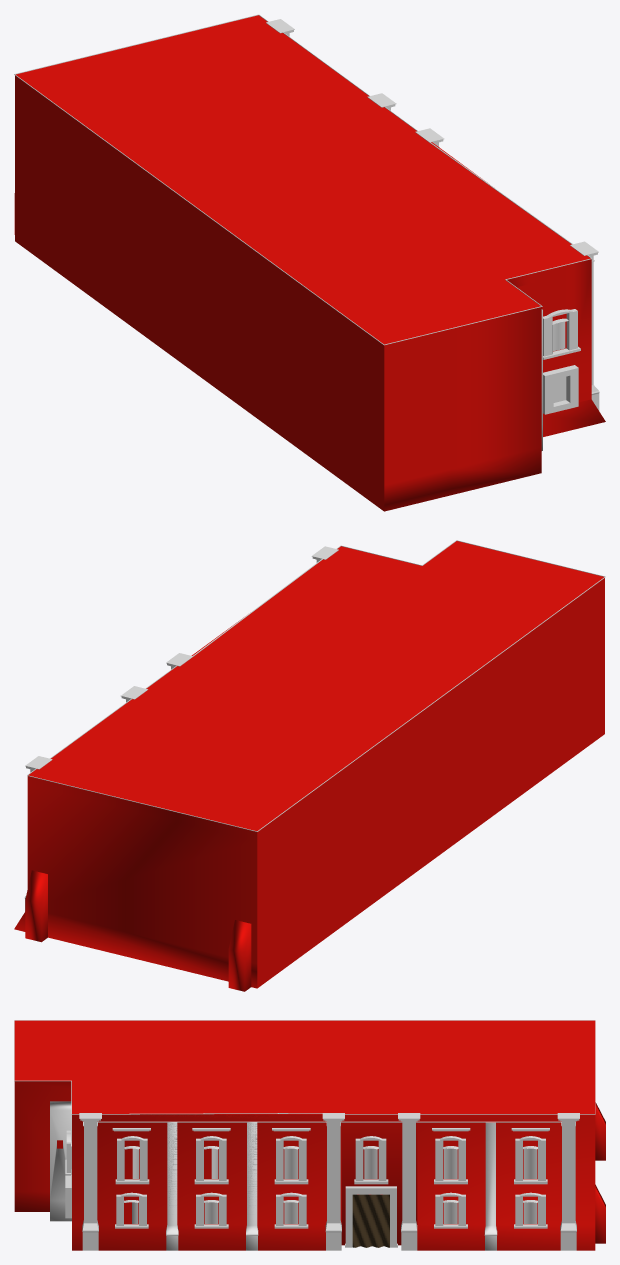
The picture shows the model from 3 angles, top to bottom: view 1: azimuth 30°, elevation 25°; view 2: azimuth 150°, elevation 25°; view 3: azimuth 270°, elevation 25°; orthographic projection. The views are drawn at different scales.
Parts seen in each view (by area): view 1: Edificio_Principal, Ventana_Roca, Dintel_Superior, Columnas_Principales.001, Madera_Ventanas, Columnas_Principales; view 2: Edificio_Principal, Dintel_Superior, Columnas_Principales.001; view 3: Edificio_Principal, Ventana_Roca, Columnas_Principales, Columnas_Secundarias, Madera_Ventanas, Dintel_Superior, Torre, Ventana_Puerta, Roca_Puerta, Columnas_Principales.001, Dintel.
Part boxes in pixels (left/top/right/bottom): Edificio_Principal: left=14, top=15, right=605, bottom=511; Ventana_Roca: left=543, top=309, right=580, bottom=414; Dintel_Superior: left=14, top=14, right=594, bottom=345; Columnas_Principales.001: left=266, top=19, right=599, bottom=394; Madera_Ventanas: left=553, top=321, right=566, bottom=402; Columnas_Principales: left=284, top=30, right=599, bottom=410; Edificio_Principal: left=14, top=541, right=604, bottom=991; Dintel_Superior: left=27, top=540, right=605, bottom=831; Columnas_Principales.001: left=24, top=546, right=338, bottom=898; Edificio_Principal: left=14, top=1020, right=605, bottom=1250; Ventana_Roca: left=65, top=1130, right=547, bottom=1228; Columnas_Principales: left=80, top=1119, right=579, bottom=1250; Columnas_Secundarias: left=166, top=1122, right=496, bottom=1250; Madera_Ventanas: left=132, top=1148, right=537, bottom=1223; Dintel_Superior: left=14, top=1020, right=595, bottom=1126; Torre: left=50, top=1101, right=71, bottom=1221; Ventana_Puerta: left=352, top=1194, right=389, bottom=1247; Roca_Puerta: left=345, top=1186, right=397, bottom=1247; Columnas_Principales.001: left=79, top=1113, right=579, bottom=1232; Dintel: left=112, top=1128, right=549, bottom=1131.
Size of what is drawn, in the model's own units: 13.27 by 8.17 by 33.39.
